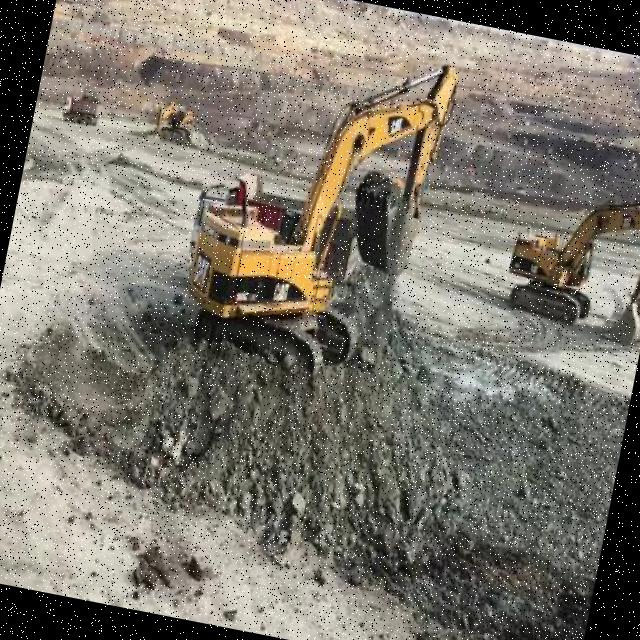Dump Truck: (59, 90, 102, 128)
Excavator: (170, 15, 466, 392), (498, 163, 640, 345), (150, 92, 194, 145)
